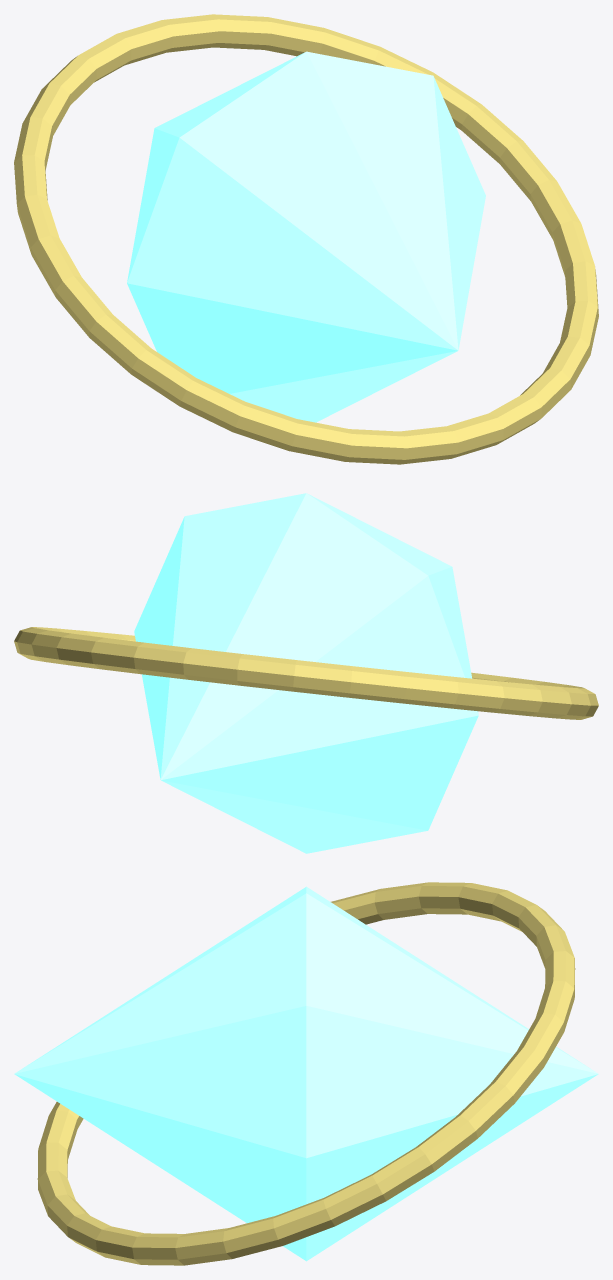
Rendered from BonusDiamondCoin.fbx.
The picture shows the model from 3 angles, top to bottom: view 1: azimuth 30°, elevation 25°; view 2: azimuth 150°, elevation 25°; view 3: azimuth 270°, elevation 25°; orthographic projection. The views are drawn at different scales.
Parts seen in each view (by area): view 1: Diamond_Body, Diamond_Orbit_Ring; view 2: Diamond_Body, Diamond_Orbit_Ring; view 3: Diamond_Body, Diamond_Orbit_Ring.
Part boxes in pixels (<box>): Diamond_Body: <box>127,51,485,422</box>; Diamond_Orbit_Ring: <box>14,14,598,464</box>; Diamond_Body: <box>134,493,478,853</box>; Diamond_Orbit_Ring: <box>14,627,598,719</box>; Diamond_Body: <box>14,886,598,1261</box>; Diamond_Orbit_Ring: <box>37,882,575,1265</box>.
Bounding box in the file's own units: 22.05 × 15 × 22.
